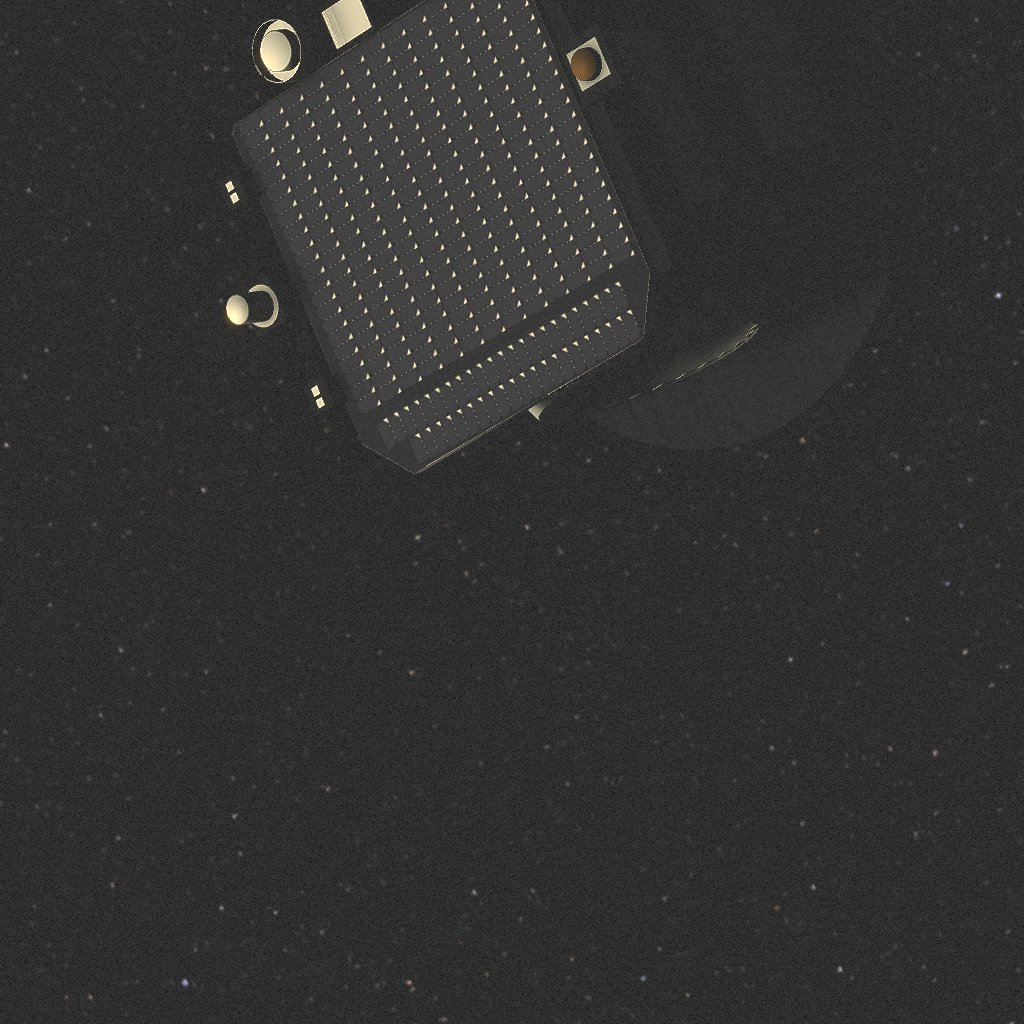proba_3_ocs: (219, 10, 951, 485)
